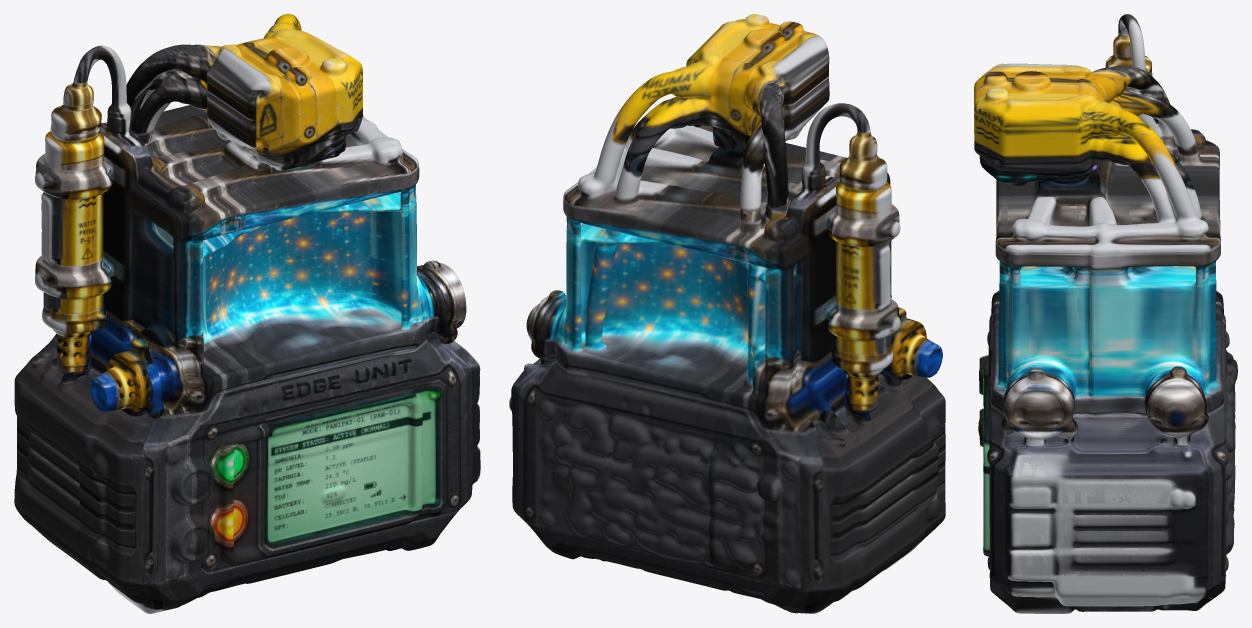
Rendered from yamuna_watch_textured.glb.
3 renders of one model, left to right at view 1: azimuth 30°, elevation 25°; view 2: azimuth 150°, elevation 25°; view 3: azimuth 270°, elevation 25°, orthographic. The views are drawn at different scales.
Parts seen in each view (by area): view 1: geometry_0; view 2: geometry_0; view 3: geometry_0.
Part boxes in pixels (x1=…): geometry_0: x1=14, y1=14, x2=480, y2=613; geometry_0: x1=509, y1=14, x2=945, y2=613; geometry_0: x1=974, y1=14, x2=1237, y2=613.
Size of the model in its own units: 1.51 by 1.96 by 0.9865.
1 material, 1 textured.
